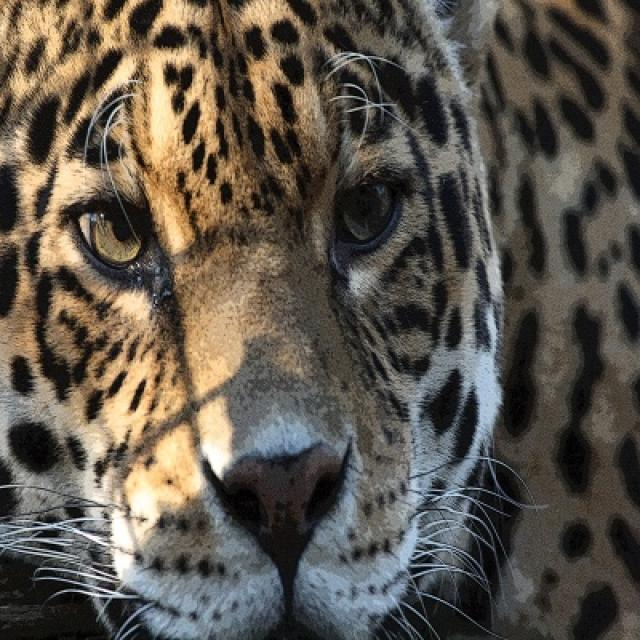Jaguar: (0, 0, 638, 638)
